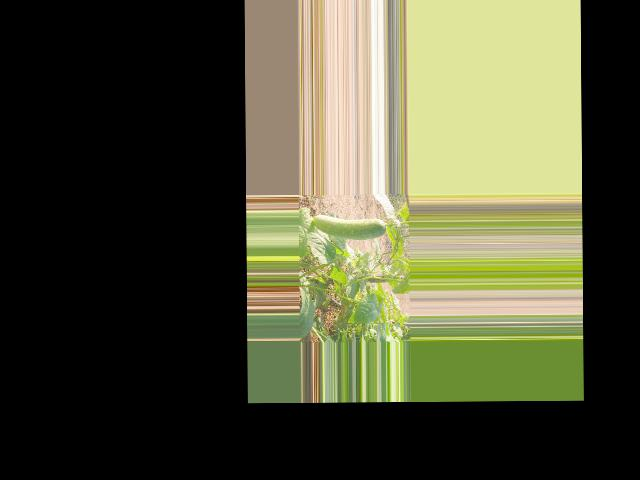cucumber: (312, 214, 385, 239)
